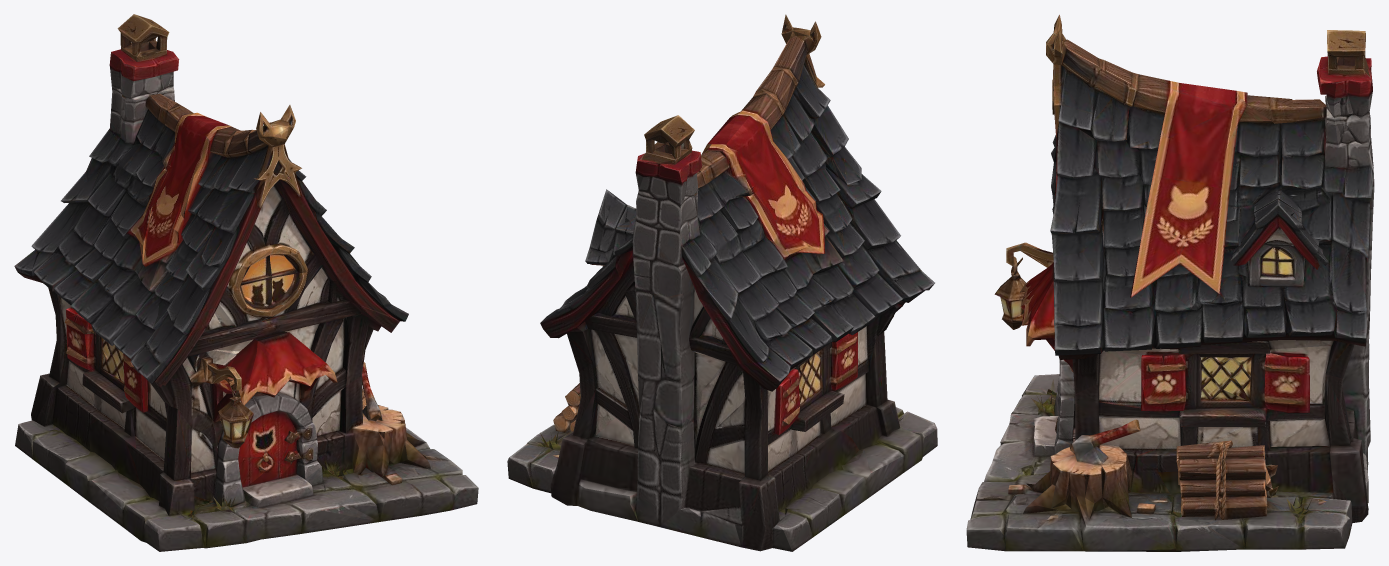
Rendered from house.glb.
The picture shows the model from 3 angles, left to right: view 1: azimuth 30°, elevation 25°; view 2: azimuth 150°, elevation 25°; view 3: azimuth 270°, elevation 25°; orthographic projection. The views are drawn at different scales.
Bounding box in the file's own units: 1.45 × 1.9 × 1.58.
Materials: 1 (1 with a texture image).
